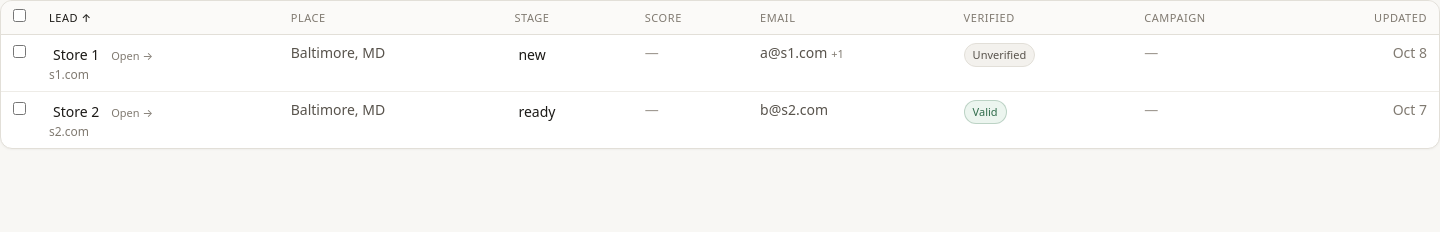
Test case: LeadsTable › shows no bulk bar until something is selected, then offers research, verify and set stage
Click the checkbox named "Select Store 1". click: (20, 52)
box: [13,45,26,58]
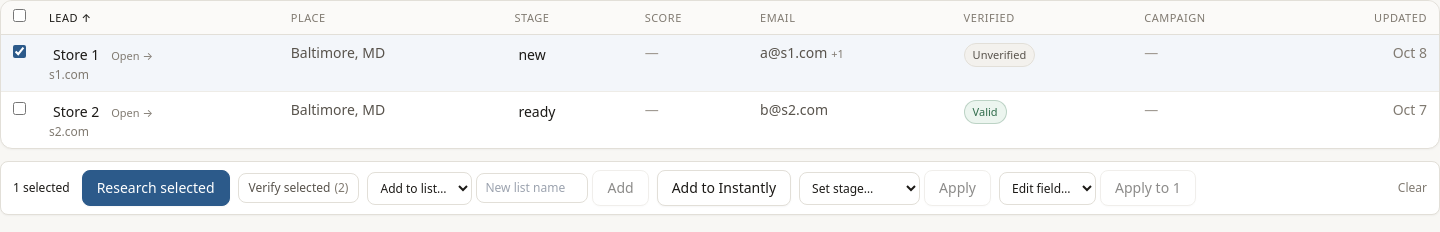
Now the element named "Selected leads" shows "1 selected", box [0,161,1439,215]
Now the button "Research selected" is enabled, box [82,170,230,206]
Now the button "Apply" is disabled, box [924,170,991,206]
